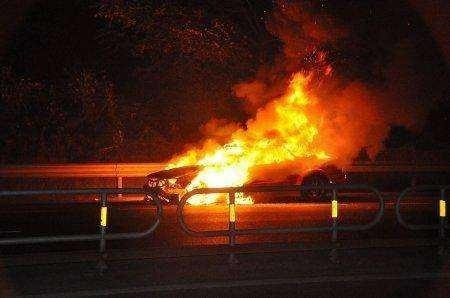fire: (166, 68, 335, 211)
